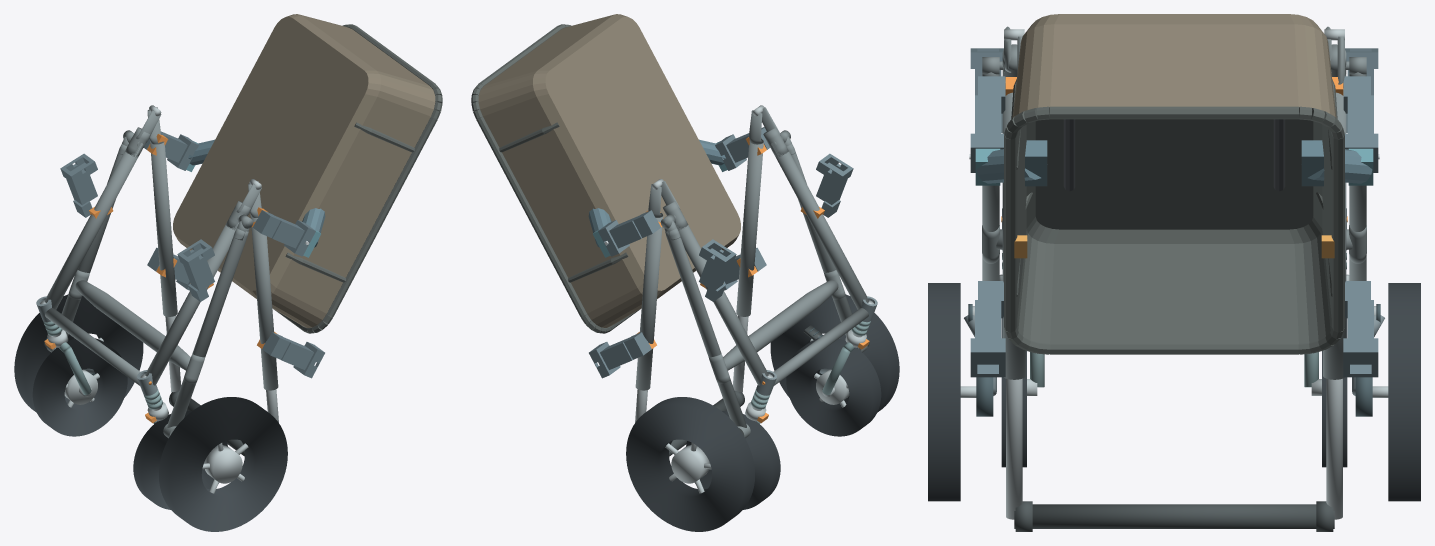
Rendered from S13_w550_state3_wheel_M.glb.
3 renders of one model, left to right at view 1: azimuth 30°, elevation 25°; view 2: azimuth 150°, elevation 25°; view 3: azimuth 270°, elevation 25°, orthographic. The views are drawn at different scales.
Visible parts, largest first — view 1: S13_Cabin, RL_tire.002, FR_tire.002, RR_tire.002, main_lower_1.003, main_upper_1.003, V46_rear_leg_-1.003, main_upper_-1.003, FL_tire.002, V46_rearbar.003, main_lower_-1.003, Universal_Cabin_Receiver_H_-1 (+10 smaller); view 2: S13_Cabin, RR_tire.002, FL_tire.002, RL_tire.002, main_lower_-1.003, main_upper_-1.003, V46_rear_leg_1.003, main_upper_1.003, FR_tire.002, V46_rearbar.003, main_lower_1.003, Universal_Cabin_Receiver_H_1 (+10 smaller); view 3: S13_Cabin, RL_tire.002, RR_tire.002, round_handle.002, S13_Cabin_Mount_M, Universal_Cabin_Receiver_H_1, Universal_Cabin_Receiver_H_-1, Universal_Cabin_Receiver_M_-1, Universal_Cabin_Receiver_M_1, handle_slider_1.002, handle_slider_-1.002, main_upper_1.003 (+9 smaller).
Boxes of the visible parts, x1=… form: S13_Cabin: x1=173, y1=14, x2=442, y2=333; RL_tire.002: x1=159, y1=397, x2=287, y2=531; FR_tire.002: x1=32, y1=338, x2=127, y2=436; RR_tire.002: x1=14, y1=294, x2=143, y2=412; main_lower_1.003: x1=44, y1=143, x2=142, y2=309; main_upper_1.003: x1=150, y1=142, x2=177, y2=316; V46_rear_leg_-1.003: x1=167, y1=228, x2=248, y2=427; main_upper_-1.003: x1=250, y1=216, x2=278, y2=390; FL_tire.002: x1=133, y1=410, x2=227, y2=509; V46_rearbar.003: x1=75, y1=280, x2=190, y2=370; main_lower_-1.003: x1=145, y1=223, x2=238, y2=385; Universal_Cabin_Receiver_H_-1: x1=262, y1=332, x2=324, y2=378; S13_Cabin: x1=471, y1=14, x2=740, y2=333; RR_tire.002: x1=626, y1=397, x2=754, y2=531; FL_tire.002: x1=786, y1=338, x2=881, y2=436; RL_tire.002: x1=770, y1=294, x2=899, y2=412; main_lower_-1.003: x1=771, y1=143, x2=869, y2=309; main_upper_-1.003: x1=736, y1=140, x2=763, y2=316; V46_rear_leg_1.003: x1=665, y1=228, x2=746, y2=427; main_upper_1.003: x1=635, y1=215, x2=663, y2=390; FR_tire.002: x1=686, y1=410, x2=780, y2=509; V46_rearbar.003: x1=723, y1=280, x2=838, y2=370; main_lower_1.003: x1=675, y1=223, x2=768, y2=385; Universal_Cabin_Receiver_H_1: x1=589, y1=332, x2=651, y2=378; S13_Cabin: x1=1004, y1=14, x2=1344, y2=354; RL_tire.002: x1=928, y1=283, x2=960, y2=501; RR_tire.002: x1=1388, y1=283, x2=1420, y2=501; round_handle.002: x1=1014, y1=504, x2=1334, y2=528; S13_Cabin_Mount_M: x1=969, y1=140, x2=1379, y2=186; Universal_Cabin_Receiver_H_1: x1=1343, y1=281, x2=1378, y2=377; Universal_Cabin_Receiver_H_-1: x1=970, y1=281, x2=1005, y2=377; Universal_Cabin_Receiver_M_-1: x1=970, y1=76, x2=1005, y2=172; Universal_Cabin_Receiver_M_1: x1=1343, y1=76, x2=1378, y2=172; handle_slider_1.002: x1=1326, y1=378, x2=1342, y2=519; handle_slider_-1.002: x1=1006, y1=378, x2=1022, y2=519; main_upper_1.003: x1=1323, y1=89, x2=1346, y2=379.
Size of the model in its own units: 0.7844 by 0.9318 by 0.6771.
